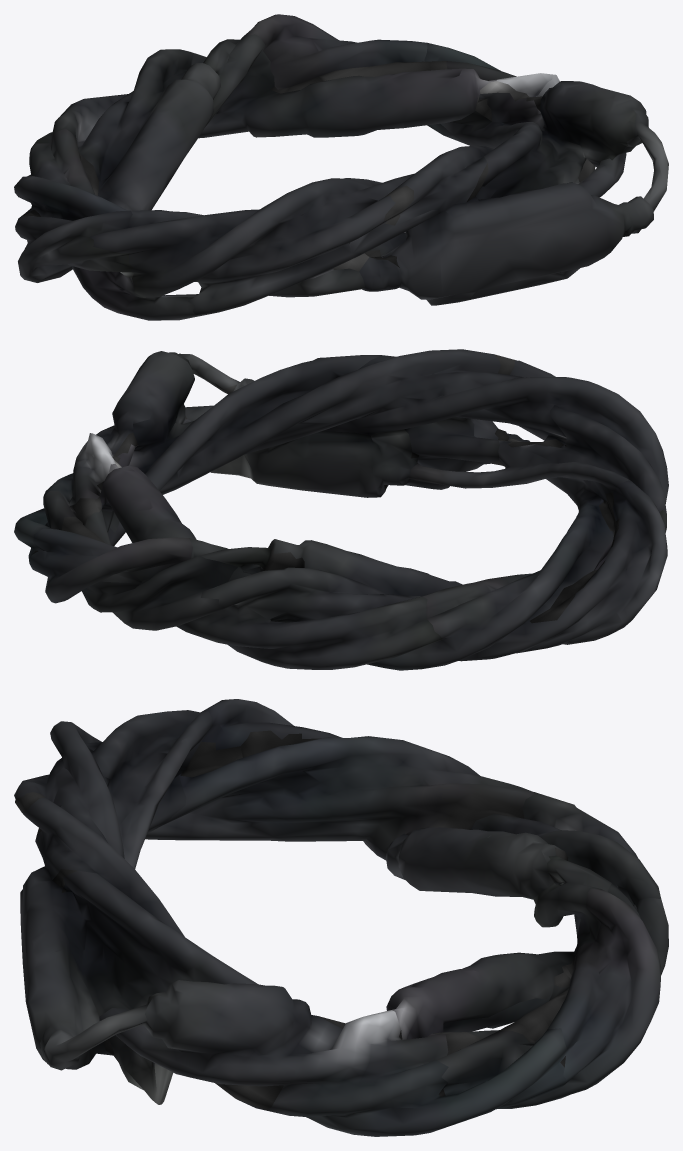
File: Ubisoft_RockSmith_Real_Tone_Cable_Xbox_360-medium.glb
3 renders of one model, top to bottom at view 1: azimuth 30°, elevation 25°; view 2: azimuth 150°, elevation 25°; view 3: azimuth 270°, elevation 25°, orthographic. The views are drawn at different scales.
Visible parts, largest first — view 1: Ubisoft_RockSmith_Real_Tone_Cable_Xbox_360; view 2: Ubisoft_RockSmith_Real_Tone_Cable_Xbox_360; view 3: Ubisoft_RockSmith_Real_Tone_Cable_Xbox_360.
Boxes of the visible parts, bbox=[...] form: Ubisoft_RockSmith_Real_Tone_Cable_Xbox_360: bbox=[14, 14, 668, 320]; Ubisoft_RockSmith_Real_Tone_Cable_Xbox_360: bbox=[14, 349, 668, 670]; Ubisoft_RockSmith_Real_Tone_Cable_Xbox_360: bbox=[14, 699, 668, 1136].
Size of the model in its own units: 0.1713 by 0.0436 by 0.14.
Materials: 1 (1 with a texture image).
